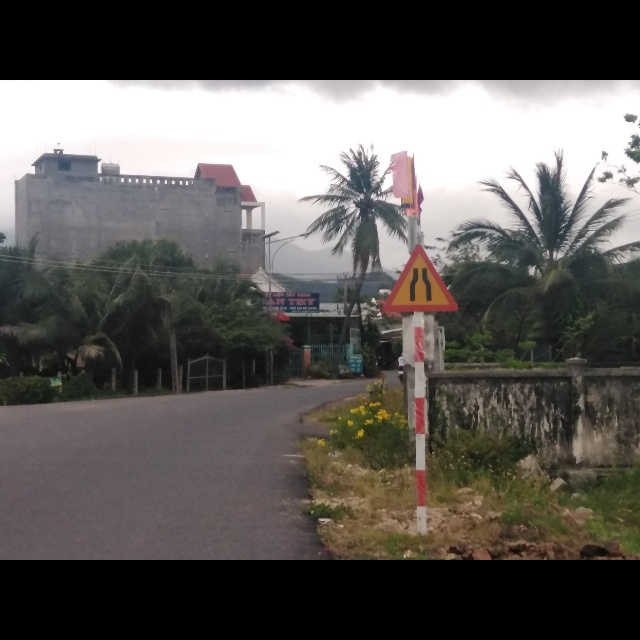Đường bị hẹp cả hai bên: (379, 244, 459, 310)
